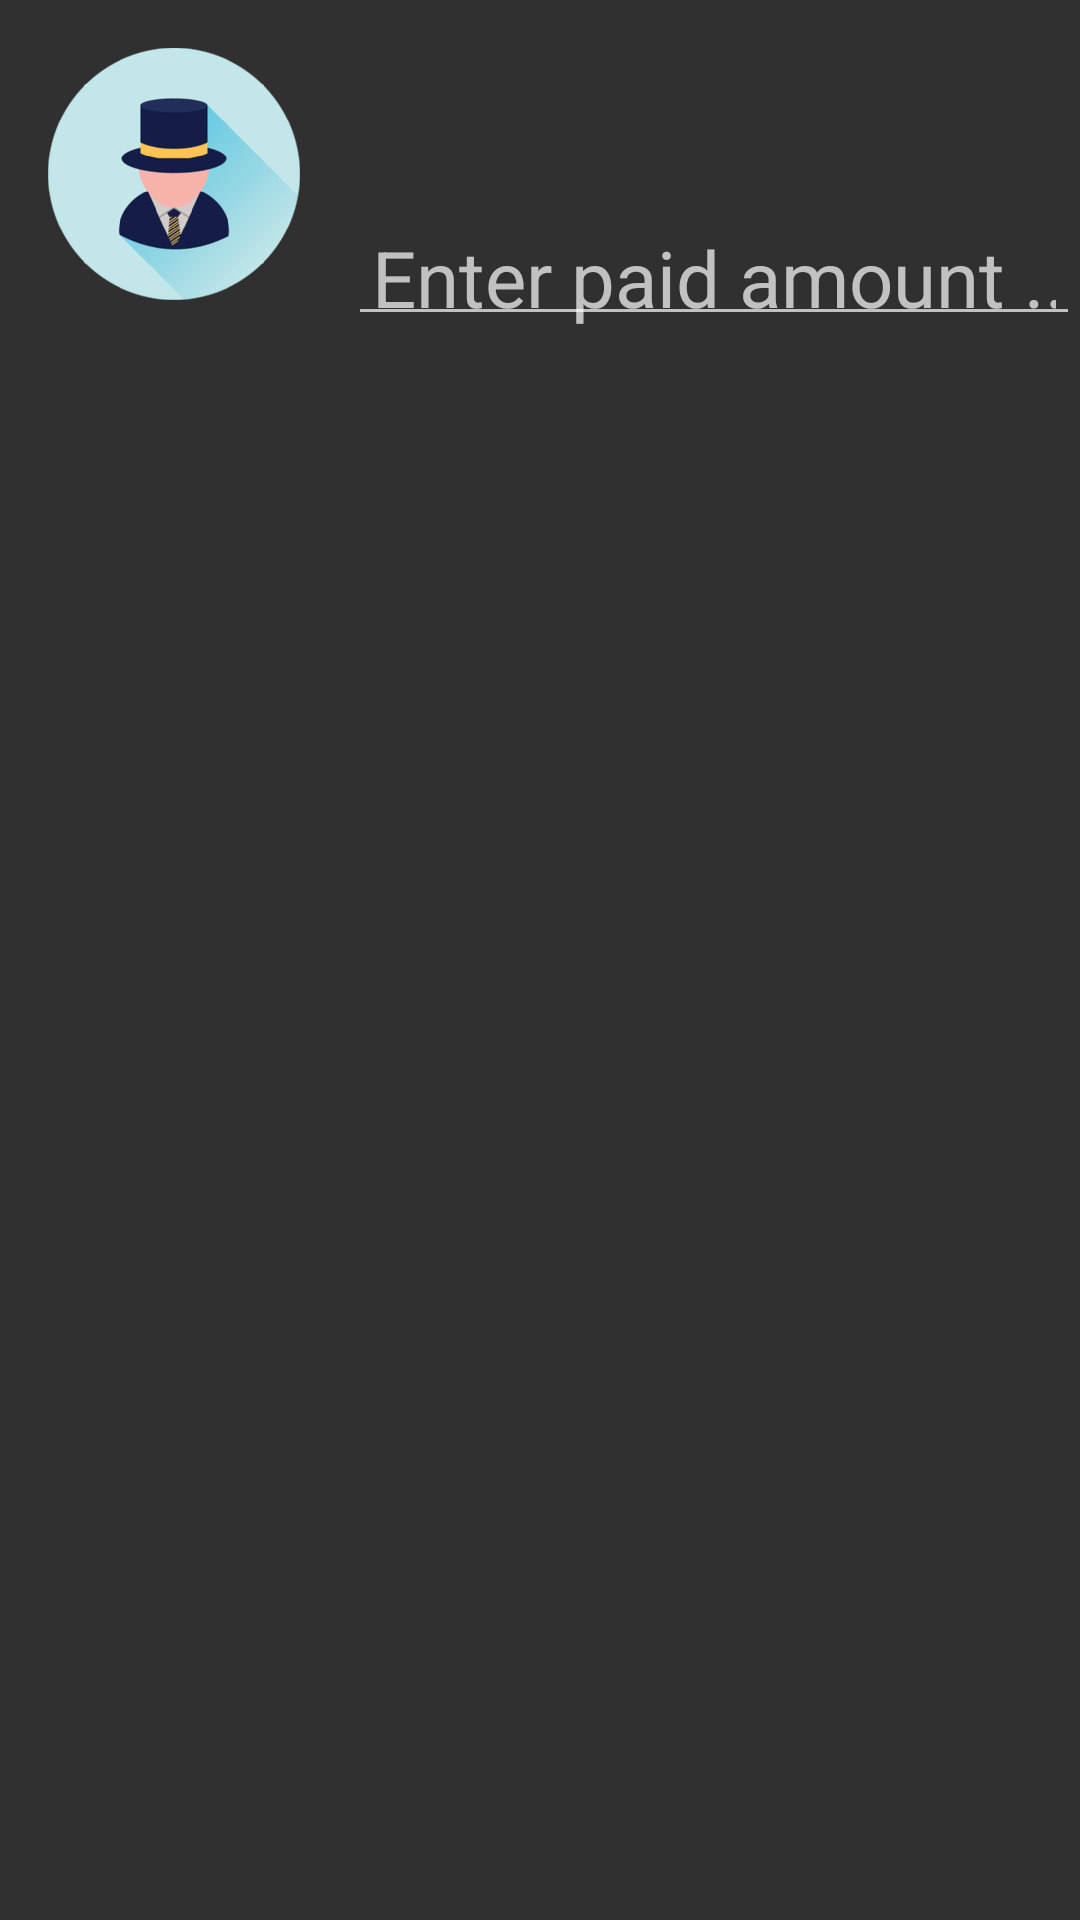

Where icons sit on this 1080px×1920px app screen, as (x1, y1, x2, y2):
user: (48, 48, 300, 300)
